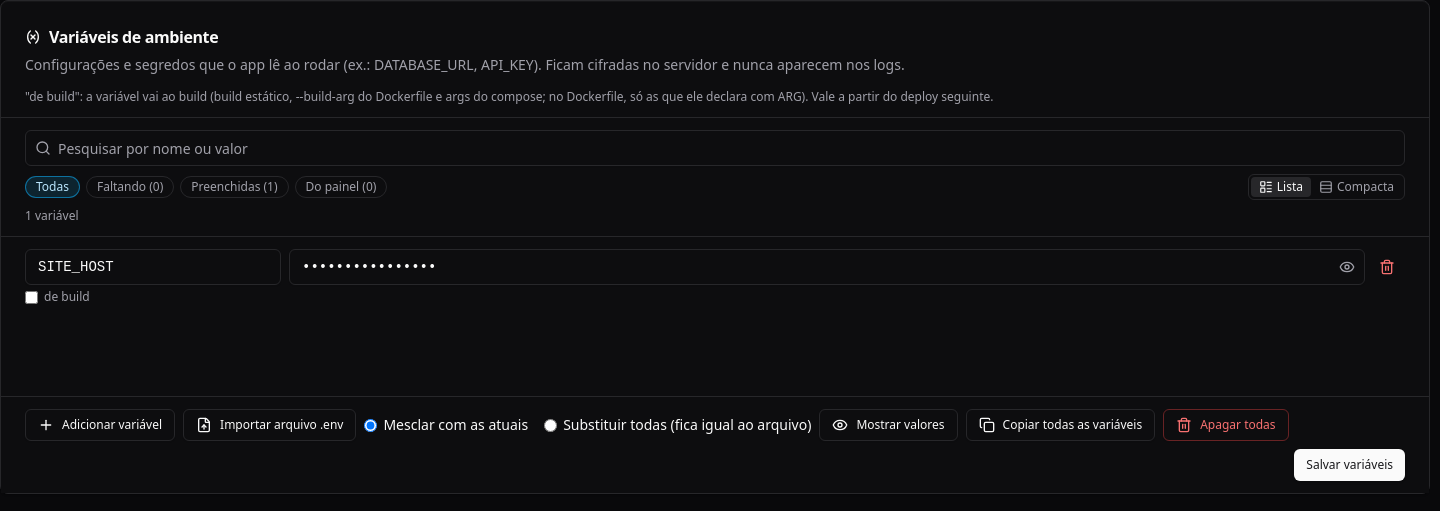
Test: aviso de variável de host › editar o valor reavalia o aviso na hora
The width and height of the screenshot is (1440, 511).
Type "https://site.example.com" into the password field named "Valor da variável 1" at (827, 267), box [289,249,1365,285]
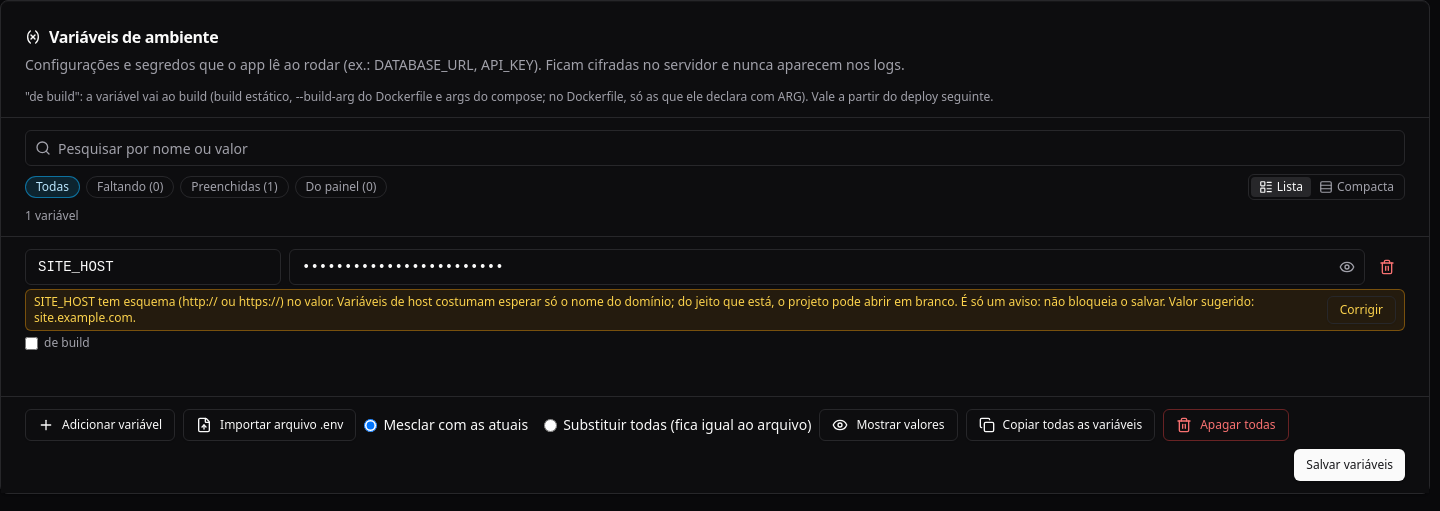
Check: the element with test id "env-host-warning-SITE_HOST" is shown, box [25,289,1405,331]
